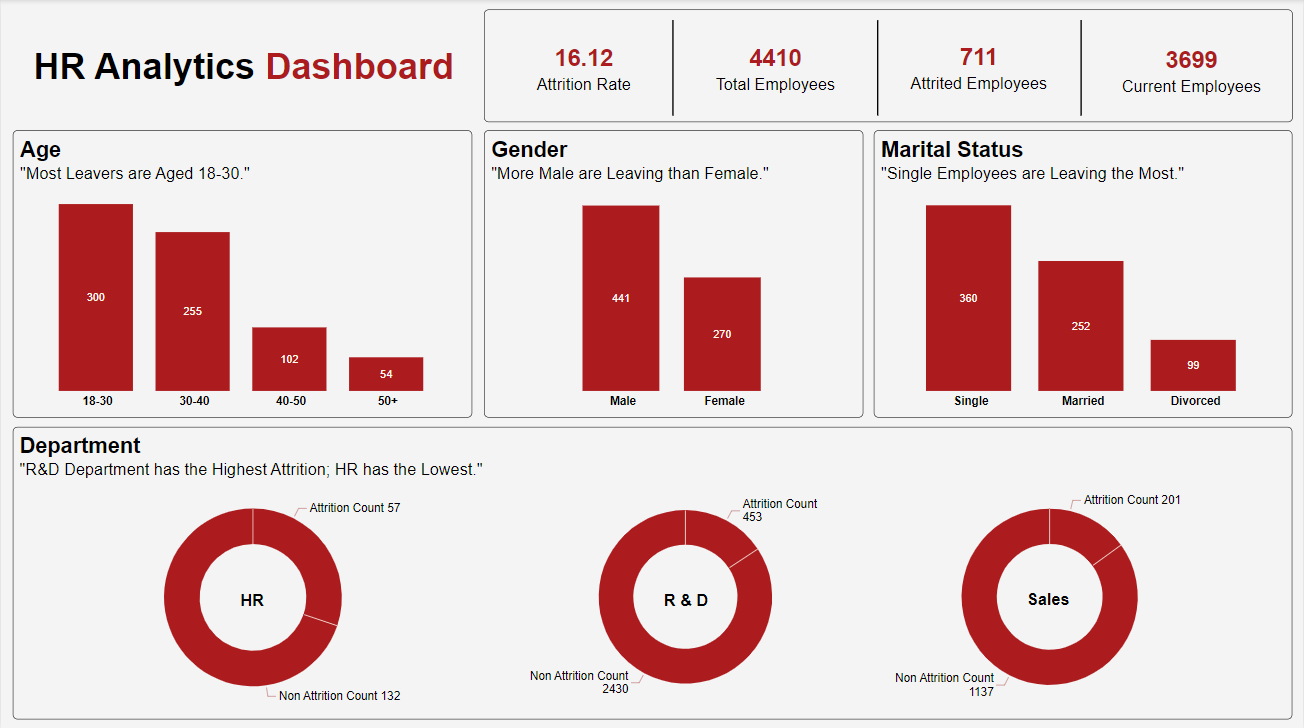

What the dashboard file says about the page in this screenshot:
{"tool":"powerbi","page":{"name":"Main Dashboard 1","canvas":[1920,1080],"ordinal":0},"visuals":[{"type":"shape","box":[17.4,630.9,1886.8,431.5],"z":0},{"type":"donutChart","title":"Department","fields":{"Y":["MeasureTable.Attrition Count","MeasureTable.Non Attrition Count"],"Category":["Emp Job Details.Department"]},"box":[17.4,630.9,708.3,431.5],"z":1000},{"type":"shape","box":[712.1,15.5,1192.1,166.4],"z":2000},{"type":"card","fields":{"Values":["MeasureTable.Attrition Rate"]},"box":[725.7,36.8,267.1,125.8],"z":3000},{"type":"card","fields":{"Values":["MeasureTable.Total Count"]},"box":[1010.2,44.5,263.2,108.4],"z":4000},{"type":"card","fields":{"Values":["MeasureTable.Attrition Count"]},"box":[1287.8,0,309.7,194],"z":5000},{"type":"columnChart","title":"Age","fields":{"Category":["Emp Details.Age Sorting"],"Y":["MeasureTable.Attrition Count"]},"box":[17.4,193.5,677.3,423.8],"z":6000},{"type":"columnChart","title":"Gender","fields":{"Category":["Emp Details.Gender"],"Y":["MeasureTable.Attrition Count"]},"box":[712.1,193.5,559.3,423.8],"z":7000},{"type":"columnChart","title":"Marital Status","fields":{"Category":["Emp Details.MaritalStatus"],"Y":["MeasureTable.Attrition Count"]},"box":[1286.9,193.5,617.3,423.8],"z":8000},{"type":"donutChart","fields":{"Category":["Emp Job Details.Department"],"Y":["MeasureTable.Attrition Count","MeasureTable.Non Attrition Count"]},"box":[729.6,700.5,559.3,361.9],"z":9000},{"type":"card","fields":{"Values":["MeasureTable.Non Attrition Count"]},"box":[1612,36.8,286.4,131.6],"z":10000},{"type":"textbox","box":[348.3,872.8,44.5,29],"z":11000},{"type":"textbox","box":[971.4,872.8,77.4,29],"z":12000},{"type":"textbox","box":[1501.7,870.8,85.1,29],"z":13000},{"type":"shape","box":[971.4,21.3,38.7,160.6],"z":14000},{"type":"shape","box":[1273.3,21.3,38.7,160.6],"z":15000},{"type":"shape","box":[1573.3,21.3,38.7,160.6],"z":16000},{"type":"textbox","box":[27.1,69.7,661.8,98.7],"z":17000},{"type":"donutChart","fields":{"Category":["Emp Job Details.Department"],"Y":["MeasureTable.Attrition Count","MeasureTable.Non Attrition Count"]},"box":[1236.6,700.5,619.3,361.9],"z":18000}]}

Visuals, with their boxes in screenshot pixels (x1, y1, x2, y2), scaled from the page's 1920x1080 canvas onto the 1304x728 screenshot:
shape: Rect(12, 425, 1293, 716)
"Department" donutChart: Rect(12, 425, 493, 716)
shape: Rect(484, 10, 1293, 123)
card - MeasureTable.Attrition Rate: Rect(493, 25, 674, 110)
card - MeasureTable.Total Count: Rect(686, 30, 865, 103)
card - MeasureTable.Attrition Count: Rect(875, 0, 1085, 131)
"Age" columnChart: Rect(12, 130, 472, 416)
"Gender" columnChart: Rect(484, 130, 863, 416)
"Marital Status" columnChart: Rect(874, 130, 1293, 416)
donutChart - Emp Job Details.Department x MeasureTable.Attrition Count: Rect(496, 472, 875, 716)
card - MeasureTable.Non Attrition Count: Rect(1095, 25, 1289, 114)
textbox: Rect(237, 588, 267, 608)
textbox: Rect(660, 588, 712, 608)
textbox: Rect(1020, 587, 1078, 607)
shape: Rect(660, 14, 686, 123)
shape: Rect(865, 14, 891, 123)
shape: Rect(1069, 14, 1095, 123)
textbox: Rect(18, 47, 468, 114)
donutChart - Emp Job Details.Department x MeasureTable.Attrition Count: Rect(840, 472, 1260, 716)
